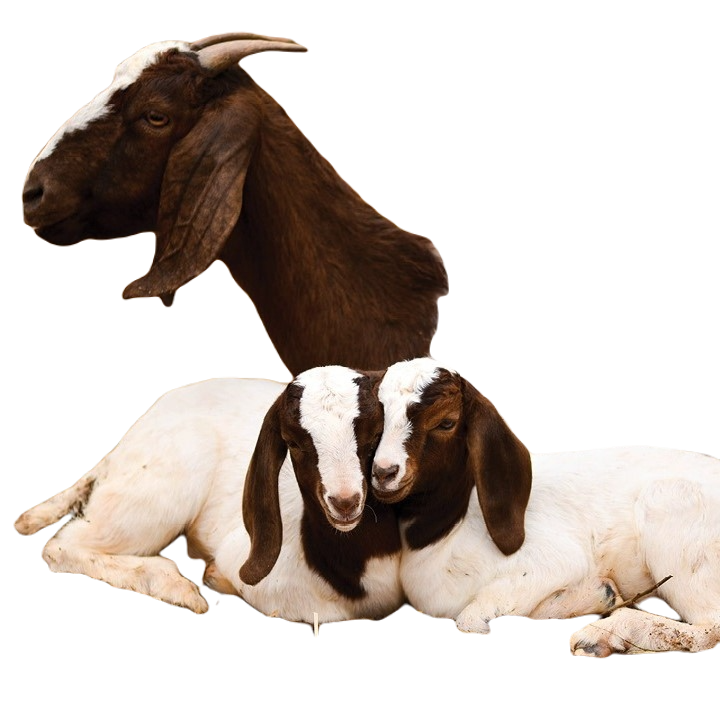Goat: (16, 30, 450, 363)
